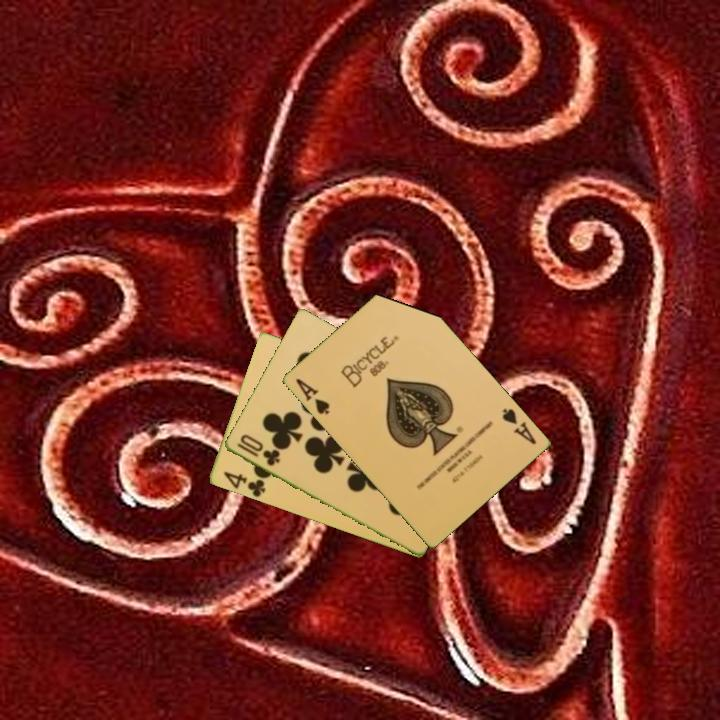10c: (233, 431, 283, 469)
4c: (219, 468, 269, 500)
As: (498, 404, 539, 447), (292, 375, 332, 418)
